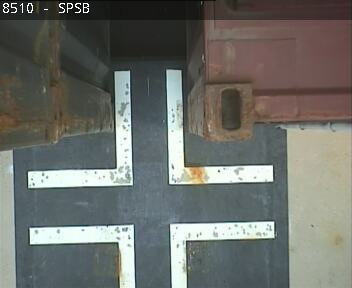groundmarker_1: (27, 70, 271, 187), (29, 220, 275, 288)
